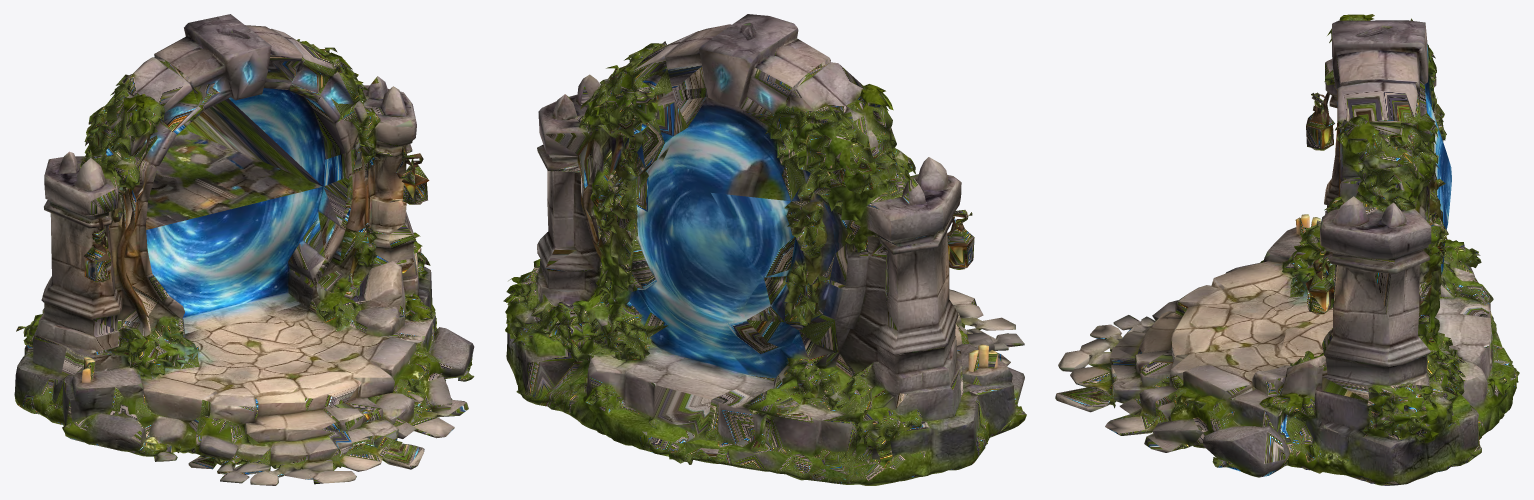
The model's file is The_Arcane_Gateway.glb.
3 renders of one model, left to right at view 1: azimuth 30°, elevation 25°; view 2: azimuth 150°, elevation 25°; view 3: azimuth 270°, elevation 25°, orthographic. The views are drawn at different scales.
Parts seen in each view (by area): view 1: The_Arcane_Gateway; view 2: The_Arcane_Gateway; view 3: The_Arcane_Gateway.
Boxes of the visible parts, x1,y1,x2,y2 form: The_Arcane_Gateway: (14, 14, 474, 485); The_Arcane_Gateway: (503, 14, 1026, 485); The_Arcane_Gateway: (1055, 14, 1519, 485).
Size of the model in its own units: 1.88 by 1.45 by 1.72.
Materials: 1 (1 with a texture image).
